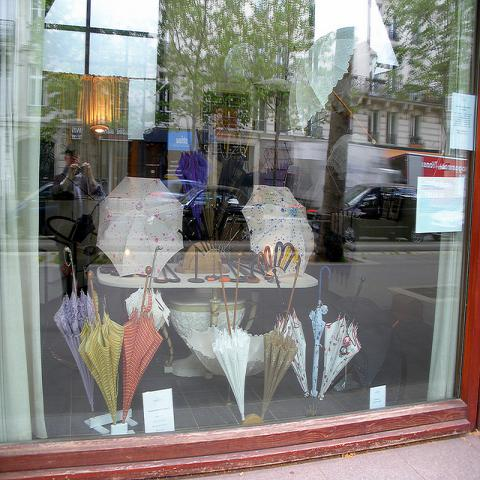car: (310, 183, 423, 244), (177, 184, 250, 241)
